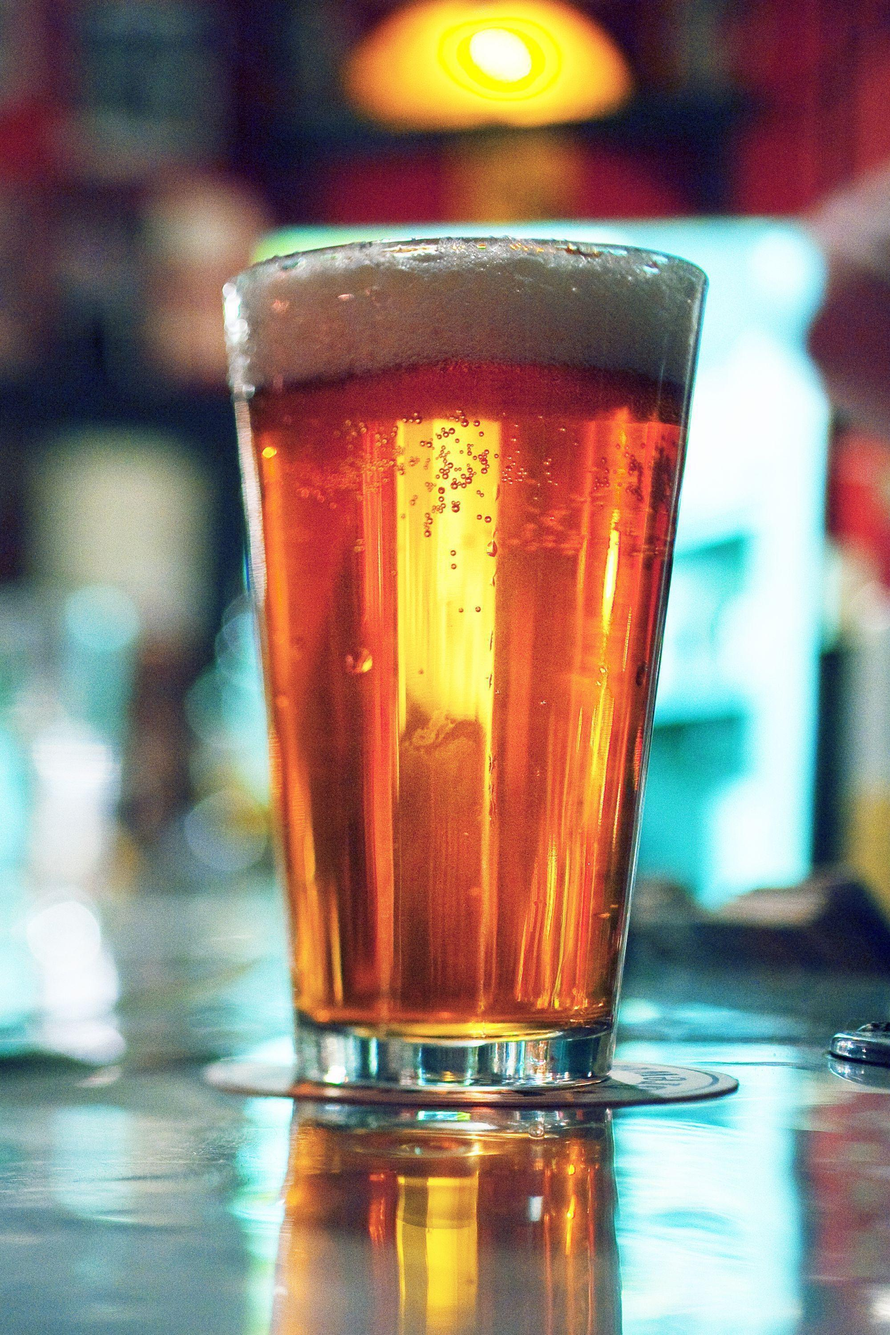glass-normal: (214, 224, 713, 1092)
